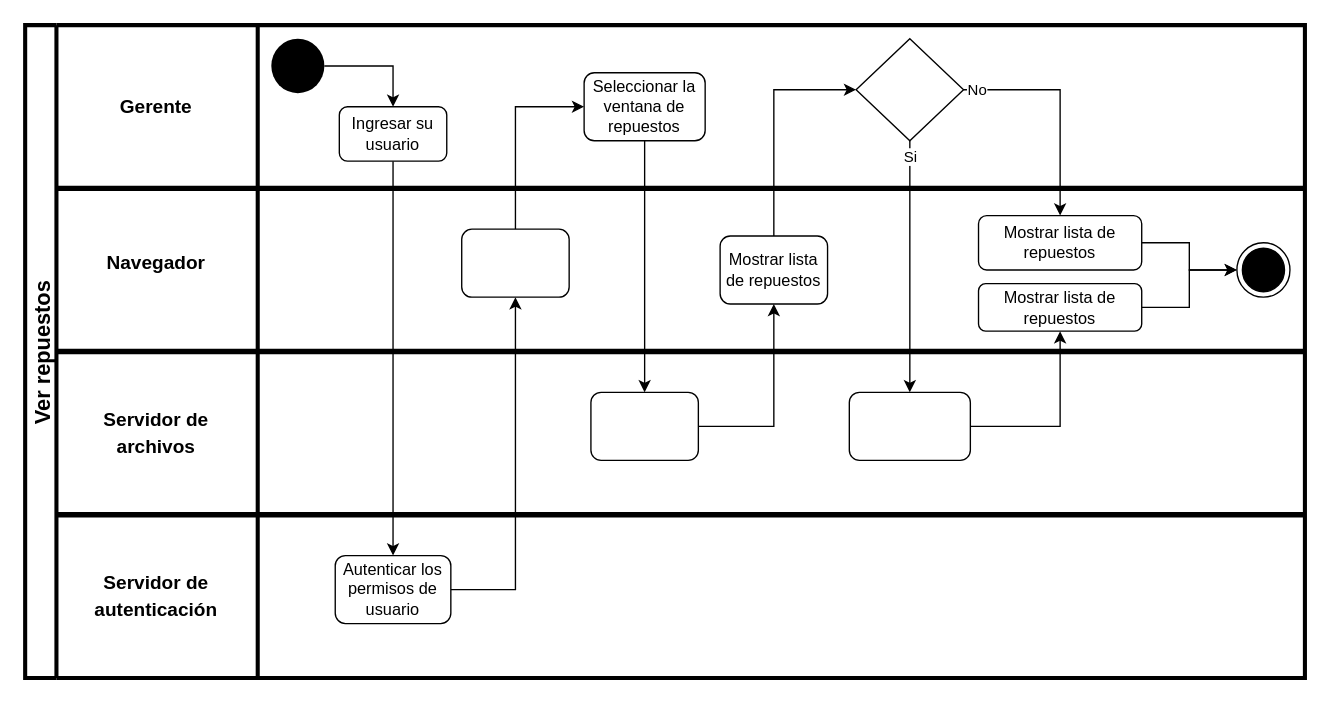
Some shapes in this 1333 by 704 pixel diagram are drawn without their labels. Each missing label, with the box of its shape:
Aplicar filtro: (855, 37, 964, 141)
Consultar repuestos: (590, 391, 698, 460)
Consultar repuestos con filtro: (848, 391, 970, 460)
Mostrar la ventana del gerente: (460, 228, 569, 297)
